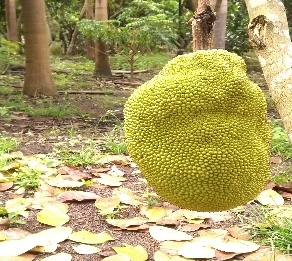Mit: (122, 47, 272, 204)
